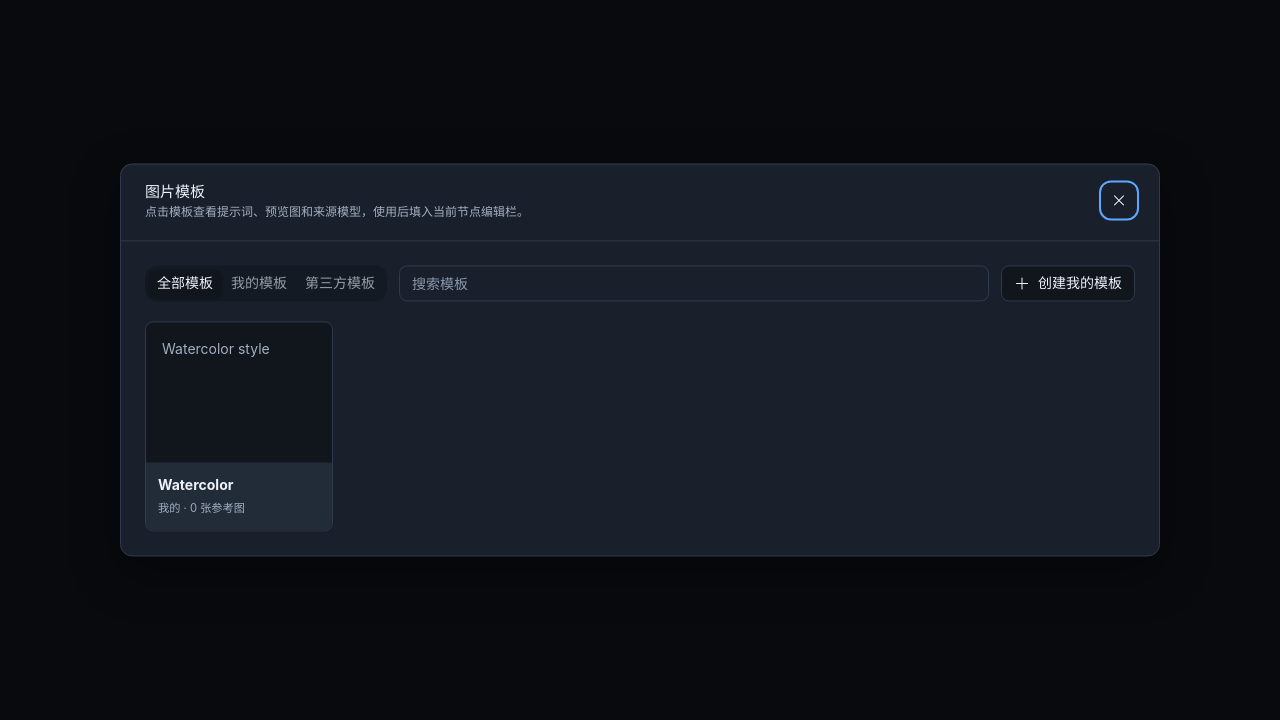
media templates › disables prompt-only template application when Comfy exposes no prompt input
What coordinates should you click on to do the following:
click the button "Watercolor style Watercolor 我的 · 0 张参考图"
I would click on:
 (239, 427)
Its box is [145,322,333,532].
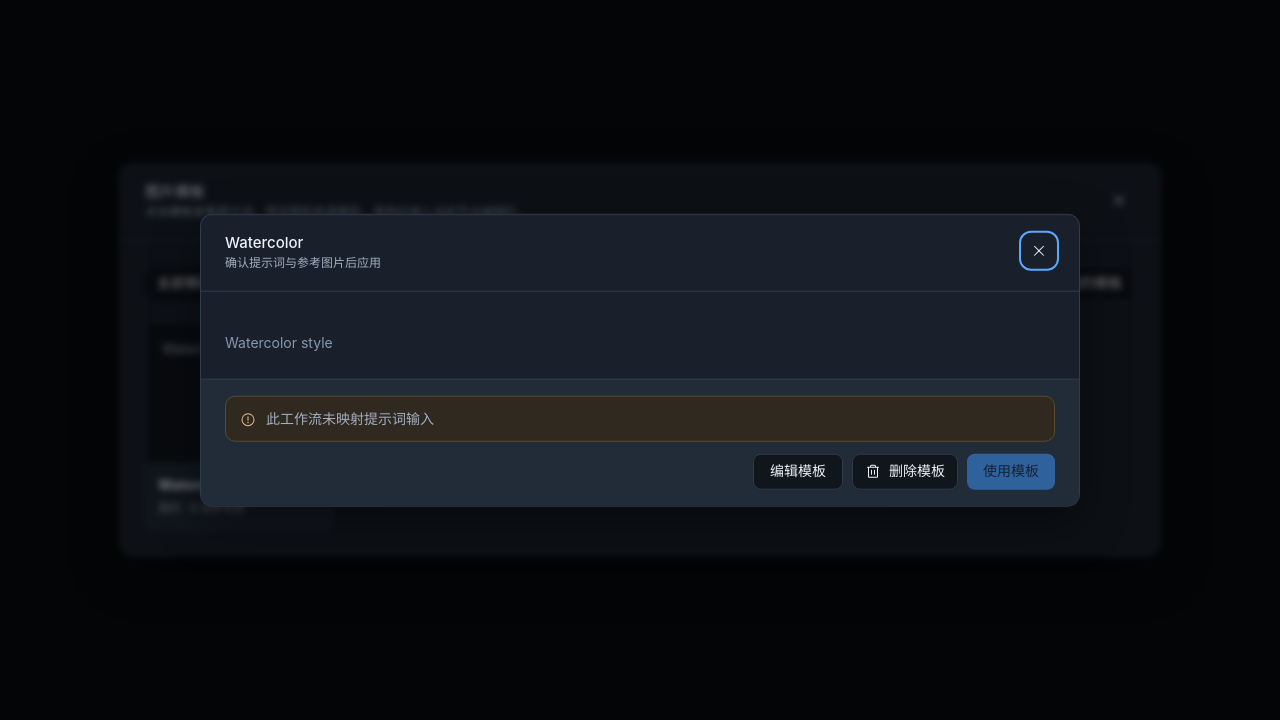
Now the button "使用模板" is disabled, box [967,453,1055,489]
Now the text "此工作流未映射提示词输入" is shown, box [266,408,434,428]
